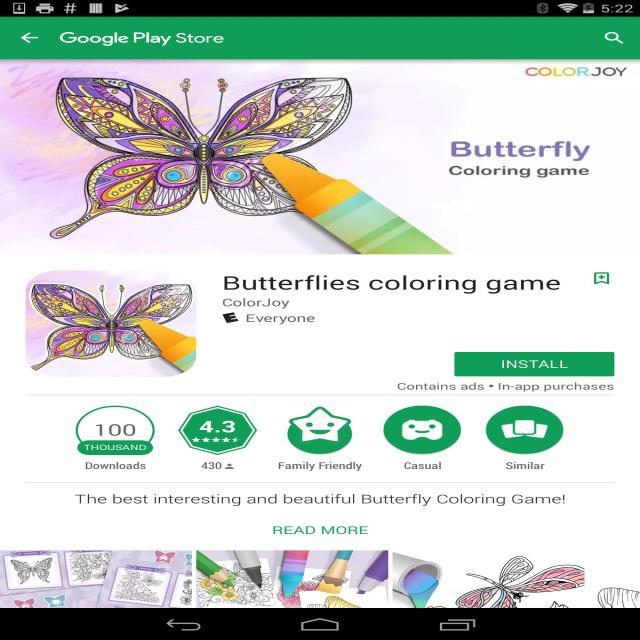button: (451, 348, 618, 378), (602, 26, 628, 49), (18, 29, 44, 48), (592, 269, 611, 290)
heading: (219, 273, 564, 298), (56, 26, 228, 46)
image: (0, 59, 640, 263), (2, 550, 640, 608), (25, 271, 198, 375), (75, 404, 156, 456), (383, 404, 461, 455), (486, 402, 564, 453), (179, 406, 258, 454), (281, 405, 355, 455)
link: (272, 523, 370, 537)
text: (75, 491, 568, 507), (220, 298, 323, 326), (396, 380, 616, 392), (277, 460, 363, 472), (84, 462, 149, 472), (398, 460, 448, 472), (198, 459, 236, 471), (502, 462, 548, 471)
